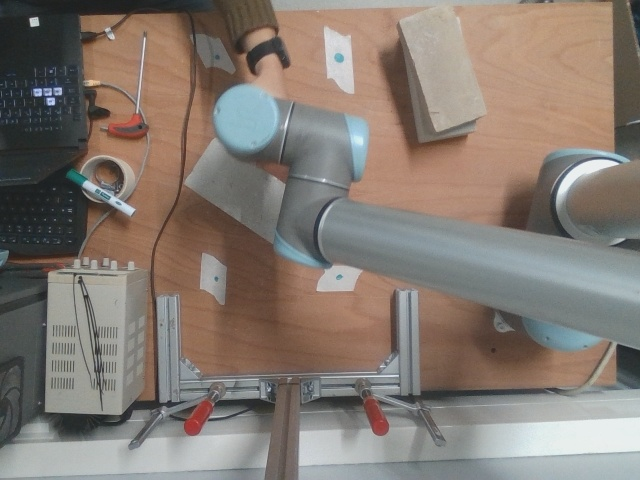brick: (400, 3, 482, 128)
